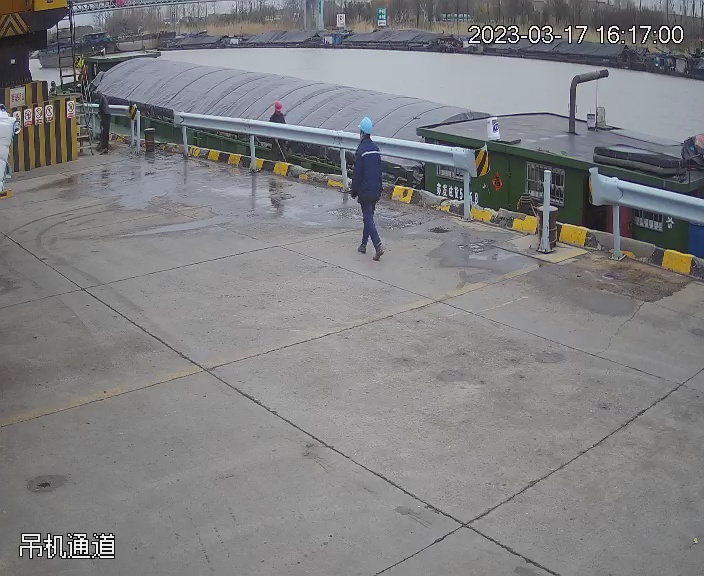head: (266, 98, 289, 128)
helmet: (359, 114, 376, 137), (273, 99, 284, 113)
people: (348, 118, 392, 263), (353, 116, 382, 164)
